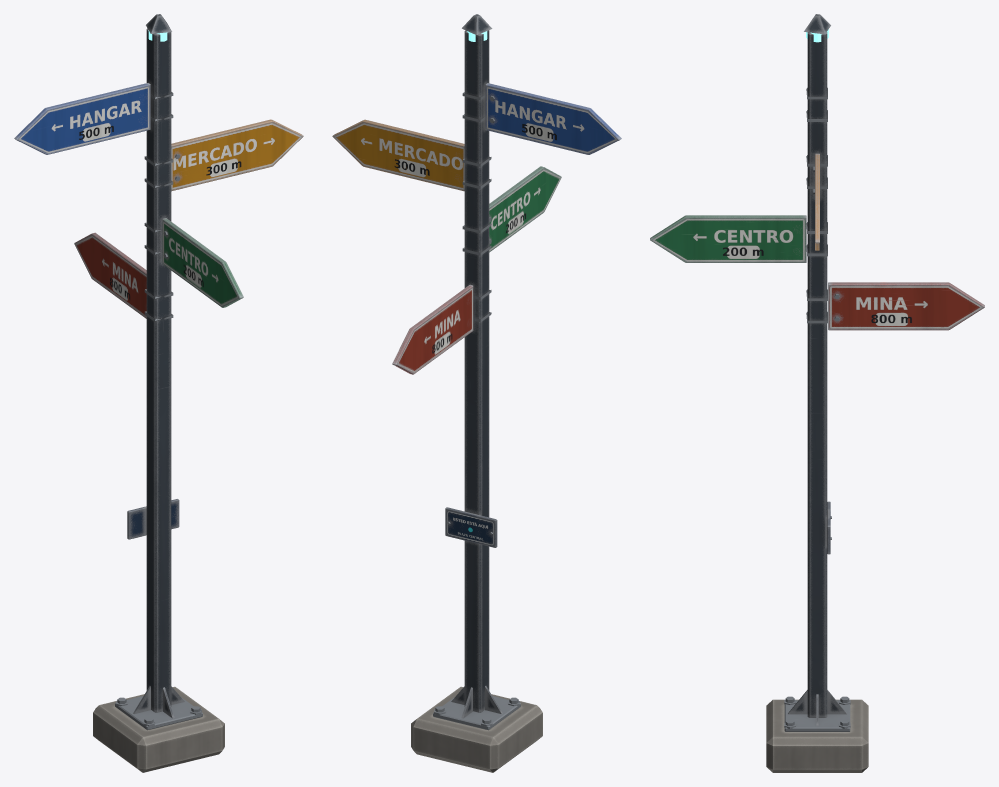
Rendered from poste_indicador.fbx.
3 views of the same model, side by side, from view 1: azimuth 30°, elevation 25°; view 2: azimuth 150°, elevation 25°; view 3: azimuth 270°, elevation 25° (orthographic).
Visible parts, largest first — view 1: poste_indicador; view 2: poste_indicador; view 3: poste_indicador.
Boxes of the visible parts, bbox=[...] form: poste_indicador: bbox=[14, 14, 303, 772]; poste_indicador: bbox=[332, 14, 621, 772]; poste_indicador: bbox=[650, 14, 984, 772].
Size of the model in its own units: 2.03 by 4.95 by 2.03.
Materials: 2 (1 with a texture image).
